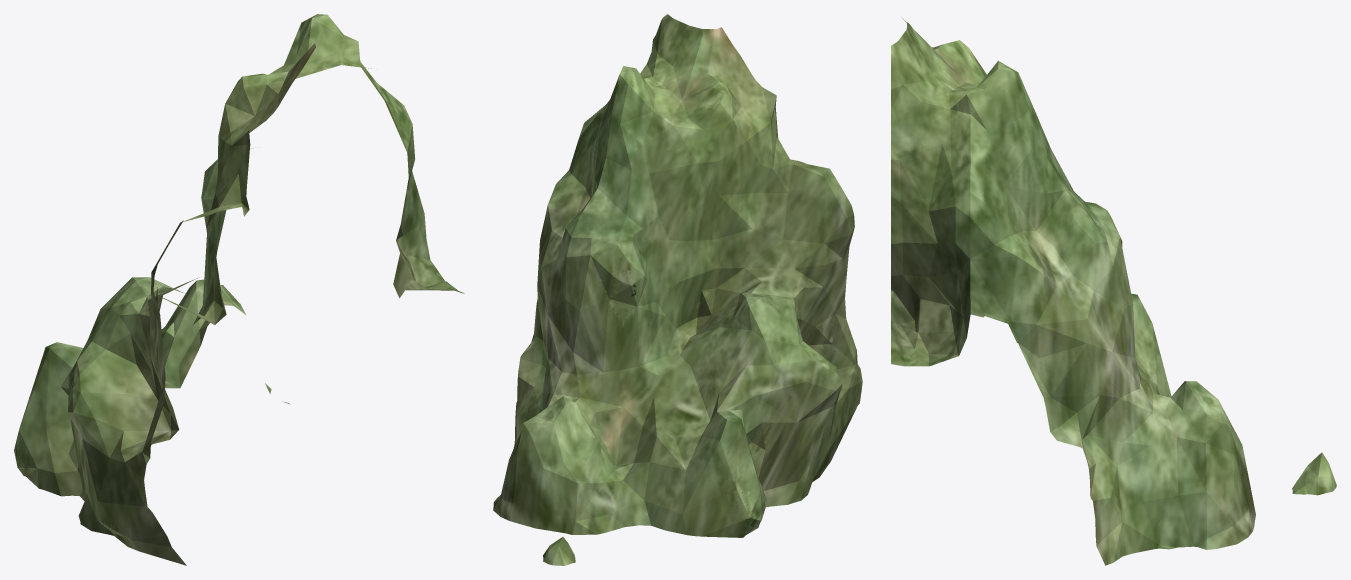
3 views of the same model, side by side, from view 1: azimuth 30°, elevation 25°; view 2: azimuth 150°, elevation 25°; view 3: azimuth 270°, elevation 25° (orthographic). The views are drawn at different scales.
Bounding box in the file's own units: 2.18 × 2.95 × 2.48.
Materials: 3 (3 with a texture image).
